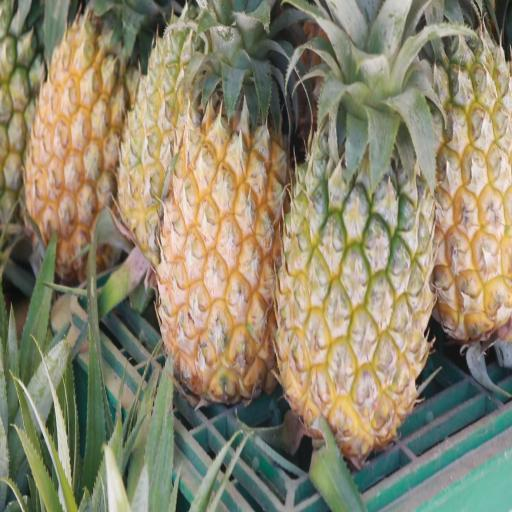------------------------------: (272, 8, 434, 468)
Pineapple - v8 v1: (154, 0, 294, 399), (407, 8, 512, 344), (112, 0, 238, 278), (17, 0, 133, 278)
